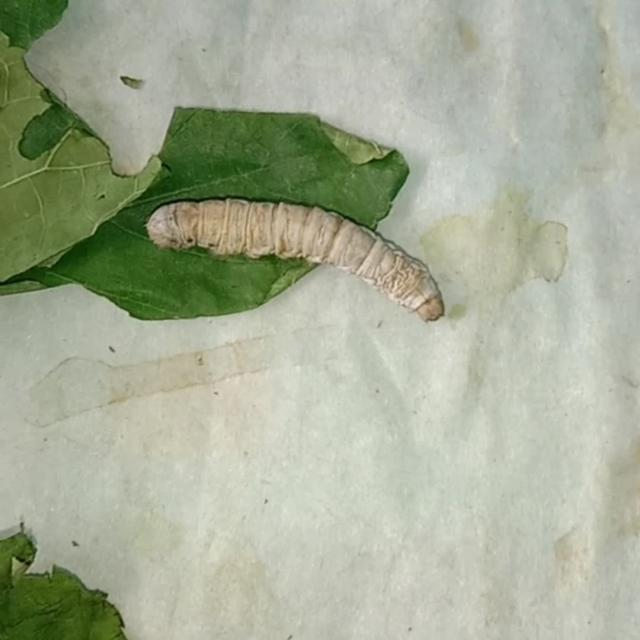Grasserie: (123, 172, 474, 359)
